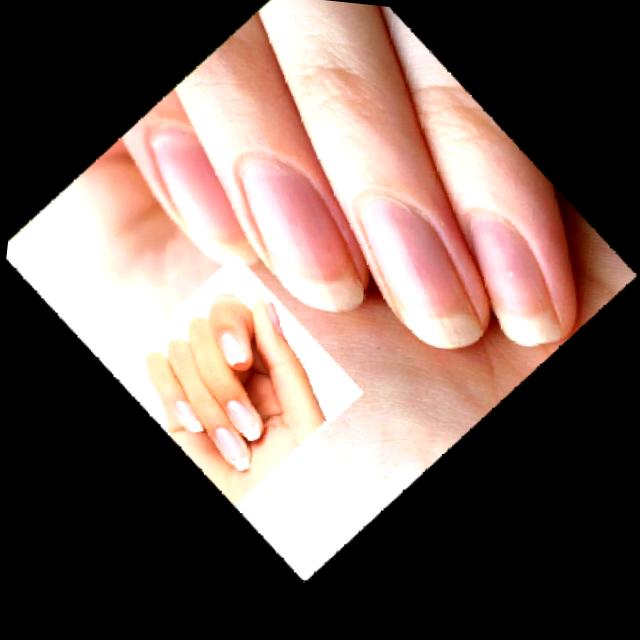Nail: (239, 156, 364, 309), (361, 197, 483, 348), (149, 127, 253, 268), (469, 215, 558, 345), (214, 425, 247, 470), (225, 399, 260, 439), (218, 331, 246, 365), (173, 399, 200, 431), (267, 301, 281, 335)
